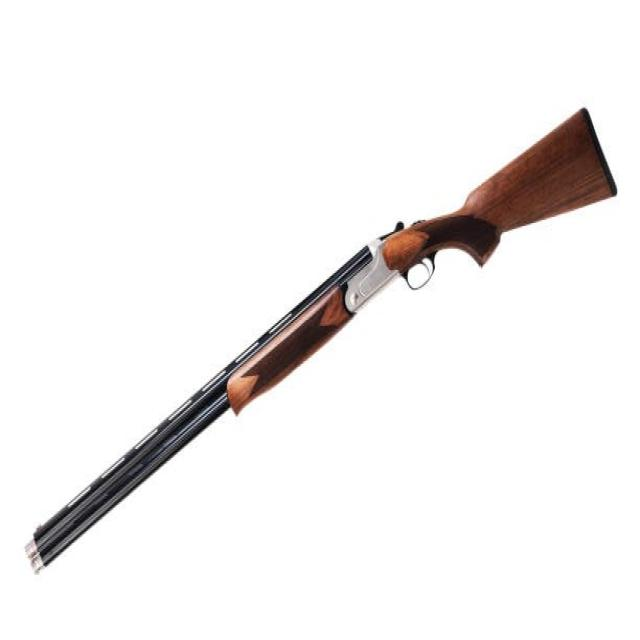rifle: (22, 83, 620, 588)
